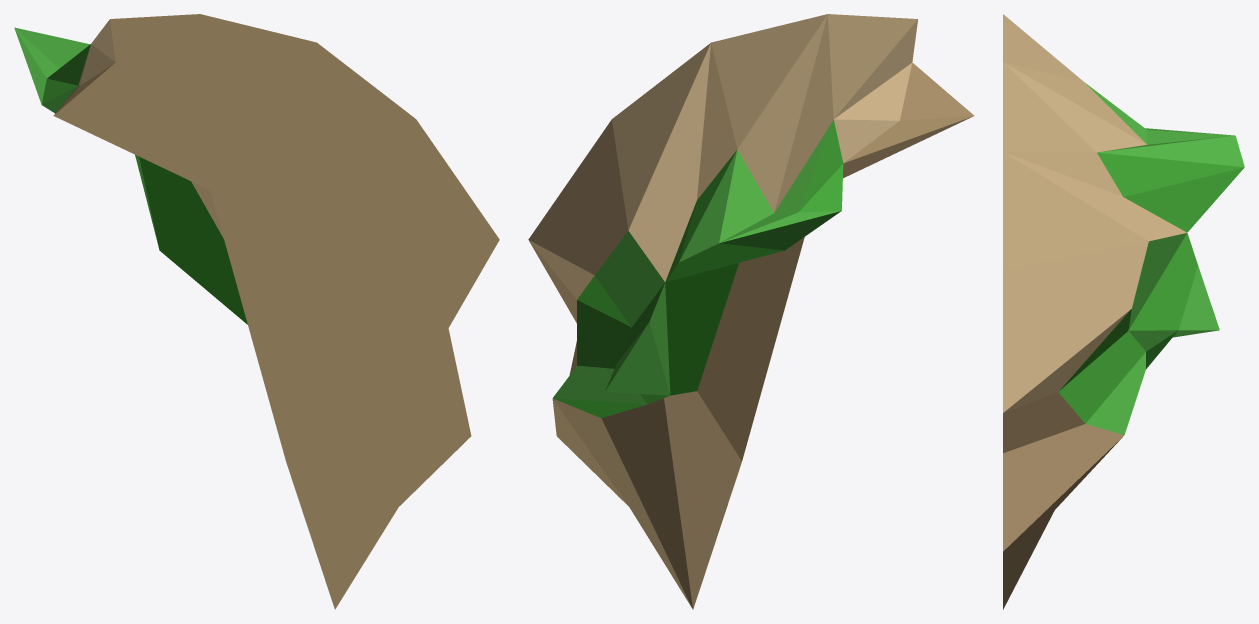
The model's file is desert_middle_rock_2.fbx.
3 renders of one model, left to right at view 1: azimuth 30°, elevation 25°; view 2: azimuth 150°, elevation 25°; view 3: azimuth 270°, elevation 25°, orthographic. The views are drawn at different scales.
Visible parts, largest first — view 1: desert_rock_3; view 2: desert_rock_3; view 3: desert_rock_3.
Boxes of the visible parts, x1,y1,x2,y2 form: desert_rock_3: [14, 14, 499, 609]; desert_rock_3: [528, 14, 974, 609]; desert_rock_3: [1003, 14, 1244, 609].
Bounding box in the file's own units: 393 × 543 × 234.
